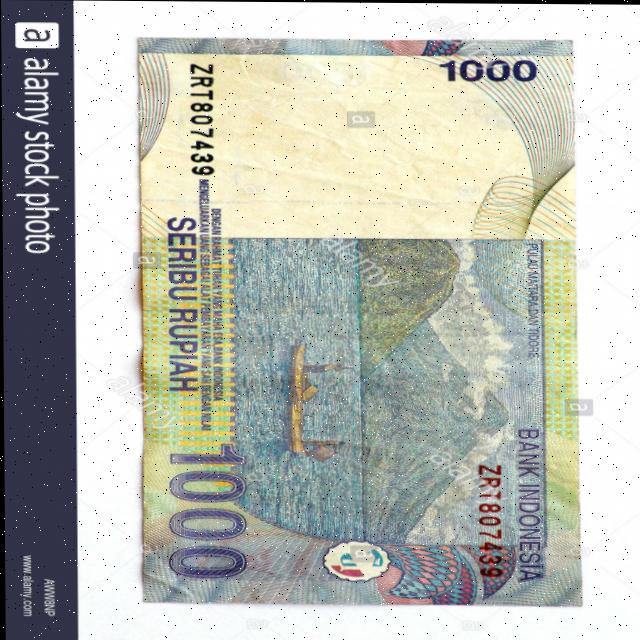1000IndonesianRupiah: (139, 33, 581, 602)
